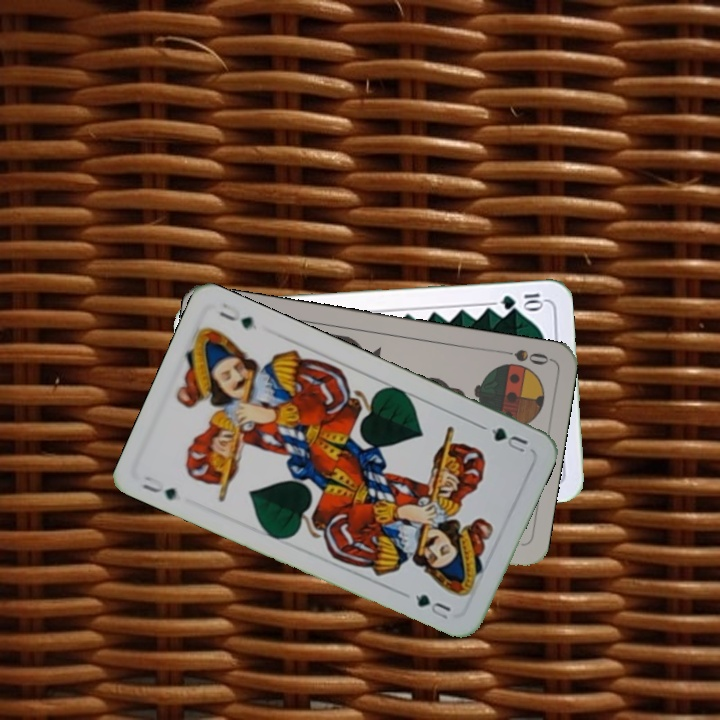G10: (496, 289, 546, 312)
GU: (487, 423, 531, 457), (138, 474, 179, 503)
SO: (493, 345, 552, 368)
